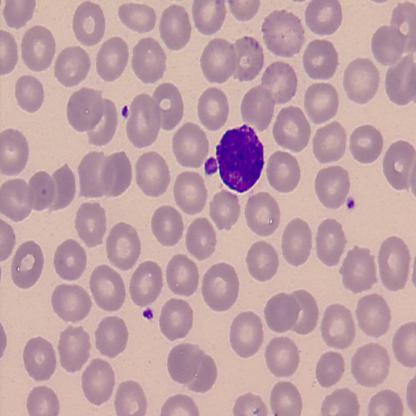Basophil: (213, 120, 267, 196)
